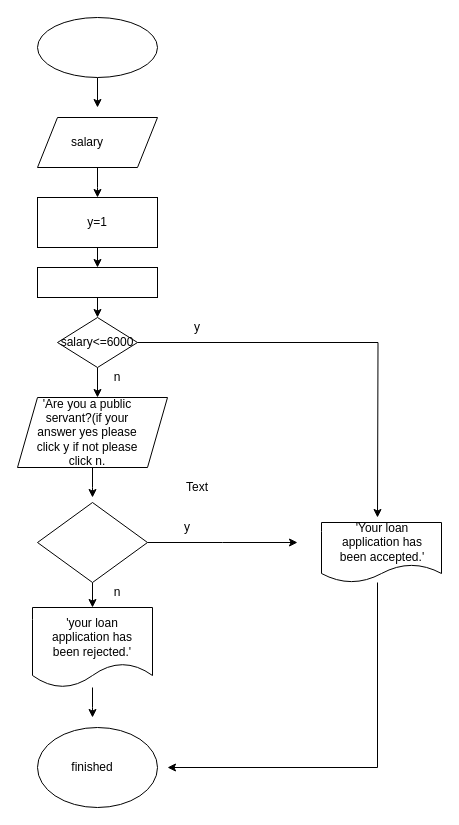
Some shapes in this 459 by 825 pixel diagram are drawn without their labels. The shapes that lost their labels are listed below. From the top down, each one's box as (x1, y1, x2, y2) in pixels, then its label:
(36, 16, 158, 78): begin
(36, 266, 158, 298): n=0
(36, 502, 148, 582): publicServant==1
